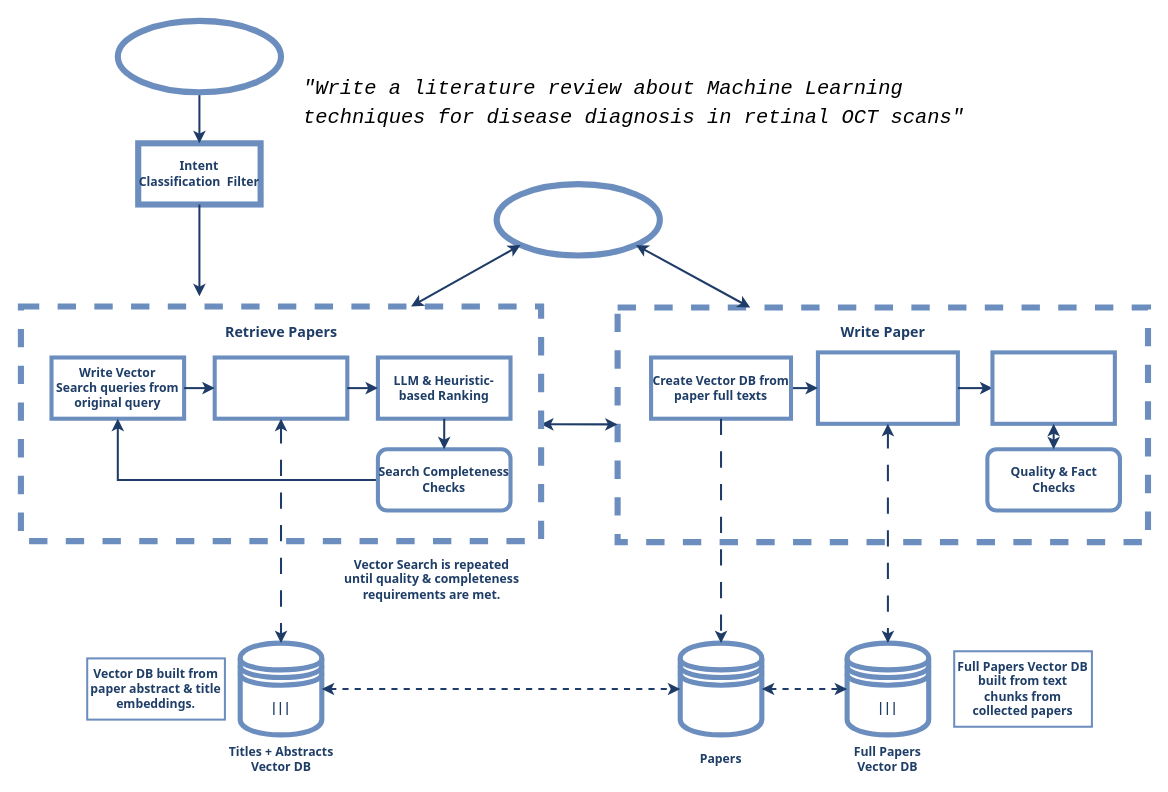
The diagram is 1168 pixels wide and 792 high, and some of its shapes have lost their labels. Here are the shapes that lost their labels. From the top down, the centre of each, then its label:
the point at 199,56: User Query
the point at 577,219: Human-in-the-Loop Feedback
the point at 280,387: Vector + Keyword Search
the point at 887,387: RAG-Assisted Summarisation of paper-by-paper findings
the point at 1053,387: Recursive Paper Synthesis & Refinement
